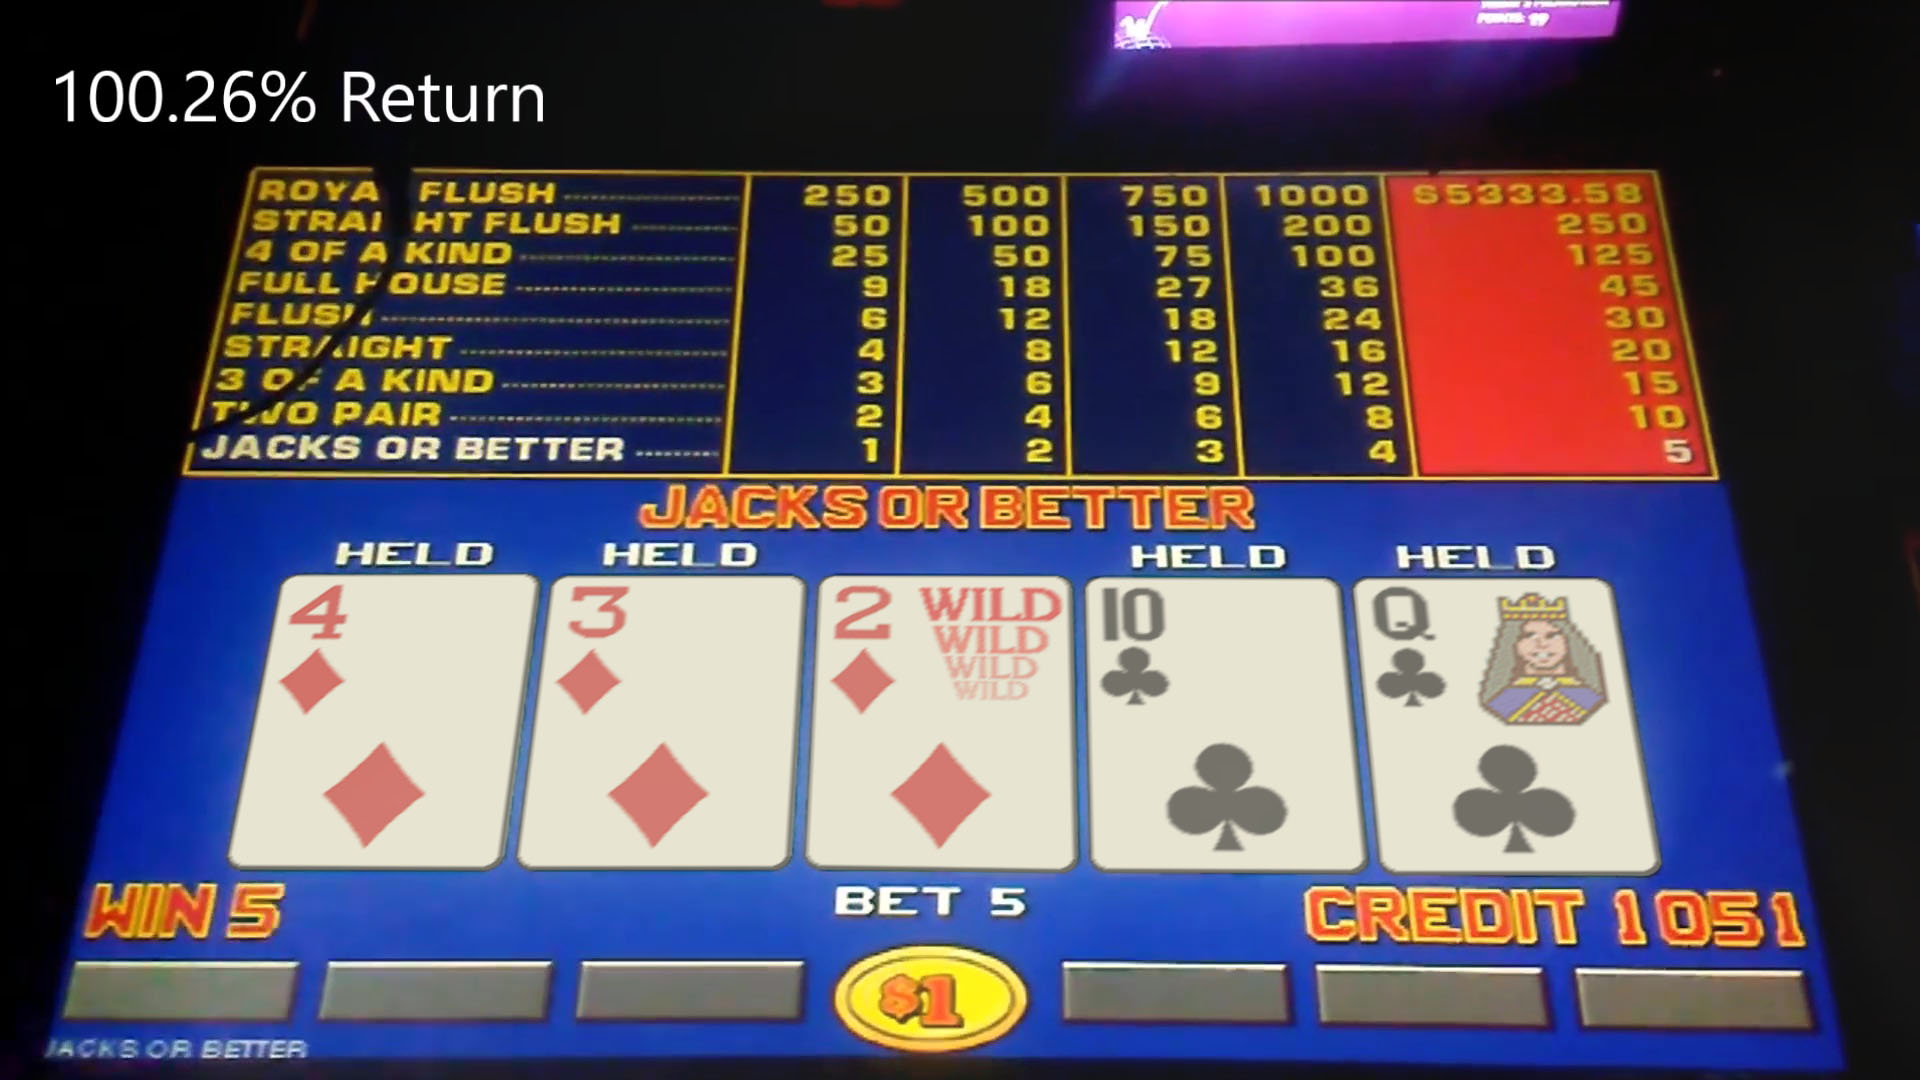CQ: (1370, 582, 1611, 724)
CT: (1091, 580, 1338, 725)
D2W: (822, 576, 1068, 731)
D3: (553, 578, 793, 735)
D4: (276, 576, 518, 727)
